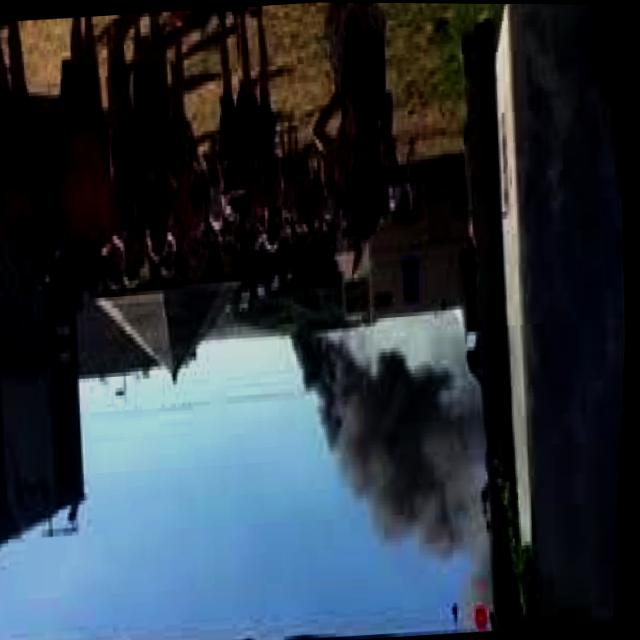Smoke: (280, 293, 512, 583)
